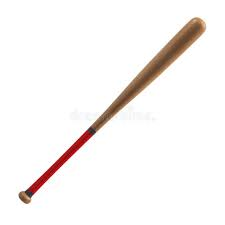baseball bat: (18, 16, 207, 204)
